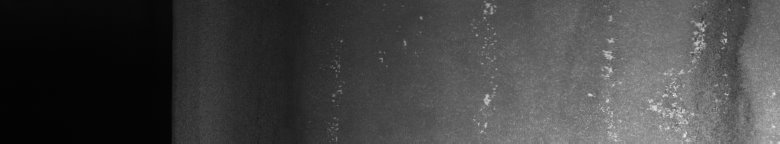hc: (588, 16, 730, 136)
